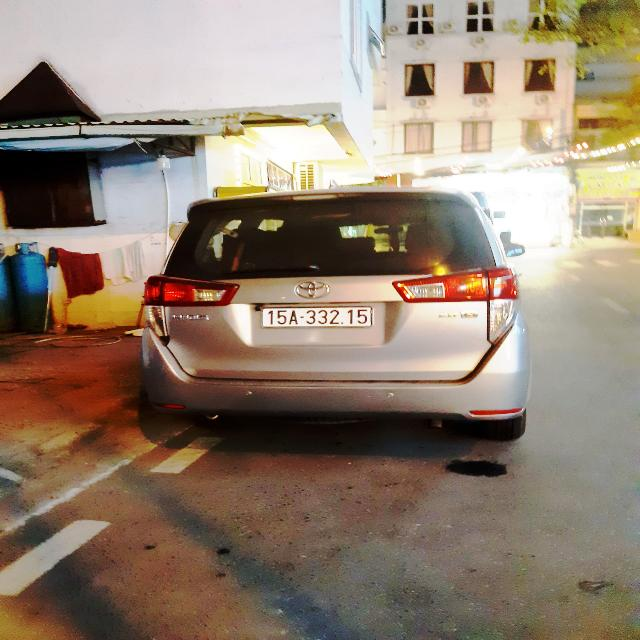license_plate: (259, 305, 380, 331)
